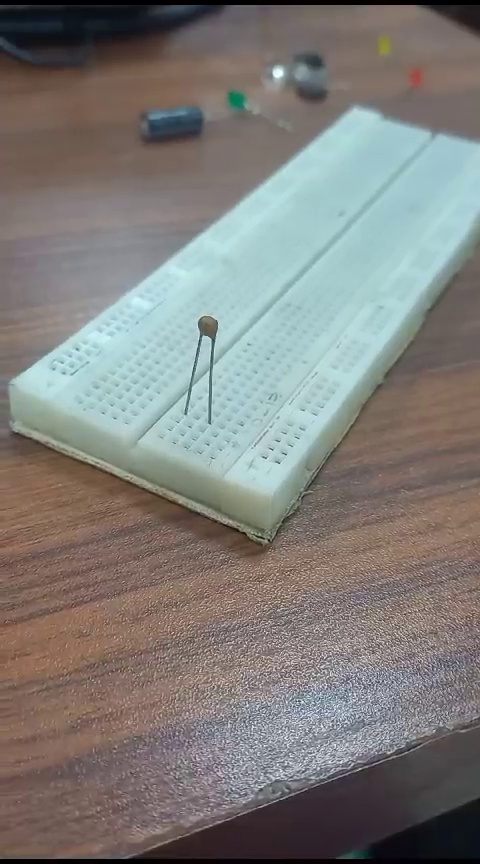ceramic capacitor: (184, 303, 235, 444)
